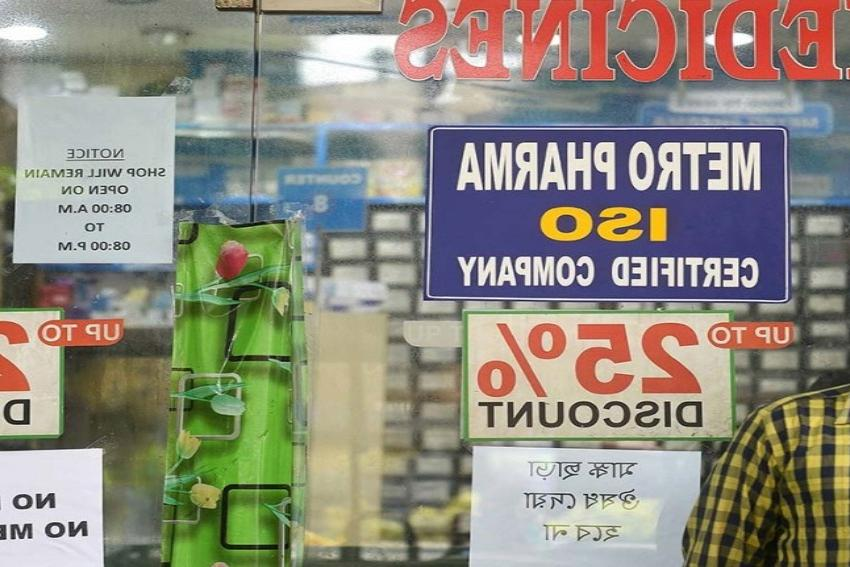mask_weared_incorrect: (840, 242, 850, 406)
